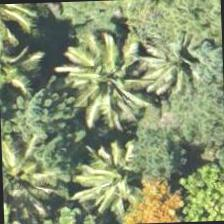Kelapa_Sawit: (71, 130, 164, 224), (60, 35, 152, 128), (132, 9, 222, 103), (0, 129, 60, 221), (0, 26, 47, 119)
